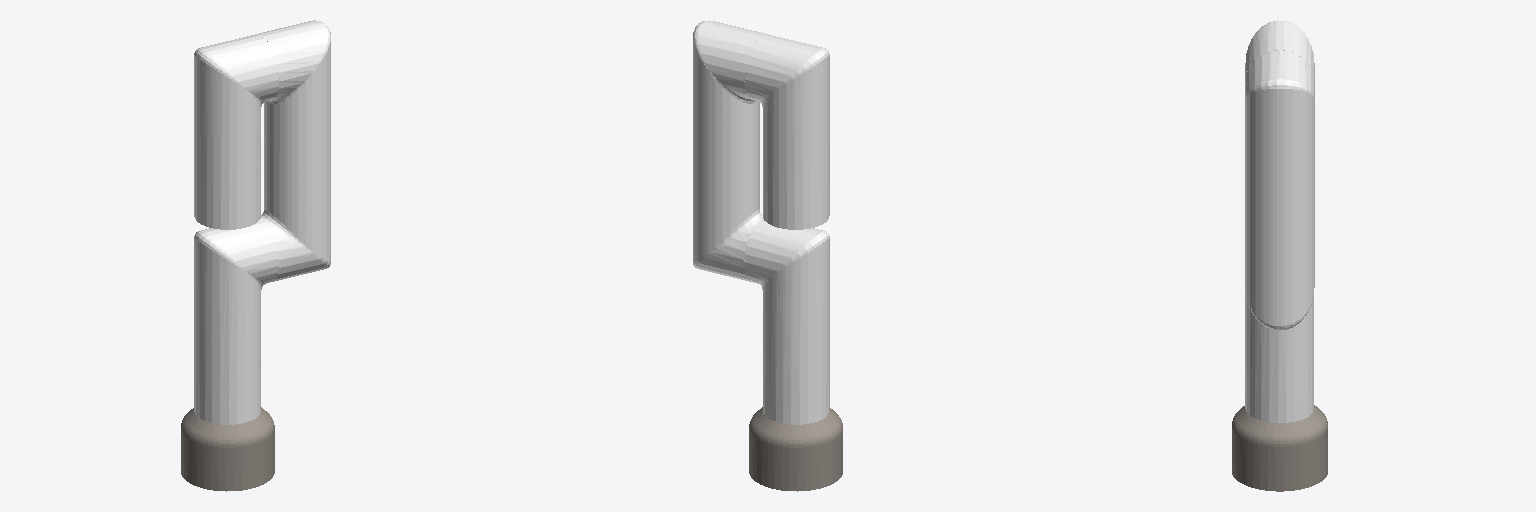
robot.urdf — robot_arm_urdf:
<?xml version="1.0" encoding="utf-8"?>
<!-- This URDF was automatically created by SolidWorks to URDF Exporter! Originally created by [author] ([email redacted]) 
     Commit Version: 1.6.0-4-g7f85cfe  Build Version: 1.6.7995.38578
     For more information, please see http://wiki.ros.org/sw_urdf_exporter -->
<robot
  name="robot_arm_urdf">
  <link
    name="base_link">
    <inertial>
      <origin
        xyz="4.96292964268423E-18 -2.15674096895111E-19 -0.00352234162793497"
        rpy="0 0 0" />
      <mass
        value="11.1555199183654" />
      <inertia
        ixx="0.0218937433303854"
        ixy="-5.38277959015113E-35"
        ixz="-1.12902817717444E-18"
        iyy="0.0218937433303854"
        iyz="3.14051558912412E-19"
        izz="0.027022763899847" />
    </inertial>
    <visual>
      <origin
        xyz="0 0 0"
        rpy="0 0 0" />
      <geometry>
        <mesh
          filename="package://robot_arm_urdf/meshes/base_link.STL" />
      </geometry>
      <material
        name="">
        <color
          rgba="0.647058823529412 0.619607843137255 0.588235294117647 1" />
      </material>
    </visual>
    <collision>
      <origin
        xyz="0 0 0"
        rpy="0 0 0" />
      <geometry>
        <mesh
          filename="package://robot_arm_urdf/meshes/base_link.STL" />
      </geometry>
    </collision>
  </link>
  <link
    name="lower_link">
    <inertial>
      <origin
        xyz="0.00283185829324434 -2.10055247599759E-07 0.152167760987996"
        rpy="0 0 0" />
      <mass
        value="2.60508217101264" />
      <inertia
        ixx="0.0207789183613322"
        ixy="3.48504162394541E-10"
        ixz="-0.000721252485633219"
        iyy="0.0210484955522847"
        iyz="-4.53564565539121E-10"
        izz="0.00352592265915018" />
    </inertial>
    <visual>
      <origin
        xyz="0 0 0"
        rpy="0 0 0" />
      <geometry>
        <mesh
          filename="package://robot_arm_urdf/meshes/lower_link.STL" />
      </geometry>
      <material
        name="">
        <color
          rgba="1 1 1 0.32" />
      </material>
    </visual>
    <collision>
      <origin
        xyz="0 0 0"
        rpy="0 0 0" />
      <geometry>
        <mesh
          filename="package://robot_arm_urdf/meshes/lower_link.STL" />
      </geometry>
    </collision>
  </link>
  <joint
    name="lowerLinkJoint"
    type="revolute">
    <origin
      xyz="0 0 0.05"
      rpy="0 0 0" />
    <parent
      link="base_link" />
    <child
      link="lower_link" />
    <axis
      xyz="0 0 -1" />
    <limit
      lower="-3.14"
      upper="3.14"
      effort="1"
      velocity="1" />
  </joint>
  <link
    name="mid_Link">
    <inertial>
      <origin
        xyz="-1.61239824175568E-07 0.149999962771169 0.0558191802212365"
        rpy="0 0 0" />
      <mass
        value="3.52947647053235" />
      <inertia
        ixx="0.0496036296964444"
        ixy="-3.8524022604401E-08"
        ixz="-1.02921856674873E-08"
        iyy="0.00493100525312466"
        iyz="-2.32738380126302E-09"
        izz="0.0490843594712315" />
    </inertial>
    <visual>
      <origin
        xyz="0 0 0"
        rpy="0 0 0" />
      <geometry>
        <mesh
          filename="package://robot_arm_urdf/meshes/mid_Link.STL" />
      </geometry>
      <material
        name="">
        <color
          rgba="1 1 1 0.32" />
      </material>
    </visual>
    <collision>
      <origin
        xyz="0 0 0"
        rpy="0 0 0" />
      <geometry>
        <mesh
          filename="package://robot_arm_urdf/meshes/mid_Link.STL" />
      </geometry>
    </collision>
  </link>
  <joint
    name="midLinkJoint"
    type="revolute">
    <origin
      xyz="0.06 0 0.25"
      rpy="1.5708 0 1.5708" />
    <parent
      link="lower_link" />
    <child
      link="mid_Link" />
    <axis
      xyz="0 0 -1" />
    <limit
      lower="-3.14"
      upper="3.14"
      effort="10"
      velocity="1" />
  </joint>
  <link
    name="top_Link">
    <inertial>
      <origin
        xyz="-2.72034678067359E-07 0.0880276673076478 -0.00302801629877976"
        rpy="0 0 0" />
      <mass
        value="2.43709022354304" />
      <inertia
        ixx="0.0173051047934003"
        ixy="-4.64973792935319E-09"
        ixz="-7.74950758251056E-10"
        iyy="0.00331438215950231"
        iyz="-0.000648915724875799"
        izz="0.017036976743881" />
    </inertial>
    <visual>
      <origin
        xyz="0 0 0"
        rpy="0 0 0" />
      <geometry>
        <mesh
          filename="package://robot_arm_urdf/meshes/top_Link.STL" />
      </geometry>
      <material
        name="">
        <color
          rgba="1 1 1 1" />
      </material>
    </visual>
    <collision>
      <origin
        xyz="0 0 0"
        rpy="0 0 0" />
      <geometry>
        <mesh
          filename="package://robot_arm_urdf/meshes/top_Link.STL" />
      </geometry>
    </collision>
  </link>
  <joint
    name="topLinkJoint"
    type="revolute">
    <origin
      xyz="0 0.3 -0.06"
      rpy="3.1416 0 0" />
    <parent
      link="mid_Link" />
    <child
      link="top_Link" />
    <axis
      xyz="0 0 -1" />
    <limit
      lower="-3.14"
      upper="3.14"
      effort="1"
      velocity="1" />
  </joint>
</robot>

--- Render facts (derived) ---
3 views of the same robot in one strip: view 1: azimuth 30°, elevation 25°; view 2: azimuth 150°, elevation 25°; view 3: azimuth 270°, elevation 25° (orthographic).
Model robot_arm_urdf with 4 links and 3 joints (3 revolute), rooted at base_link, posed every joint at zero.
Links seen in each view (by area): view 1: mid_Link, lower_link, top_Link, base_link; view 2: mid_Link, lower_link, top_Link, base_link; view 3: mid_Link, lower_link, base_link, top_Link.
Link boxes in pixels (bbox=[...]): mid_Link: bbox=[255, 20, 330, 281]; lower_link: bbox=[194, 219, 278, 424]; top_Link: bbox=[194, 34, 279, 229]; base_link: bbox=[181, 407, 274, 491]; mid_Link: bbox=[693, 20, 768, 281]; lower_link: bbox=[744, 219, 829, 424]; top_Link: bbox=[744, 34, 829, 229]; base_link: bbox=[749, 407, 842, 491]; mid_Link: bbox=[1245, 50, 1314, 329]; lower_link: bbox=[1245, 288, 1313, 422]; base_link: bbox=[1232, 405, 1327, 491]; top_Link: bbox=[1245, 20, 1314, 96].
Size in the robot's own frame: 0.2399 by 0.14 by 0.7 metres.
Meshes: 4 distinct files referenced, 4 mesh visuals loaded (4 binary STL).